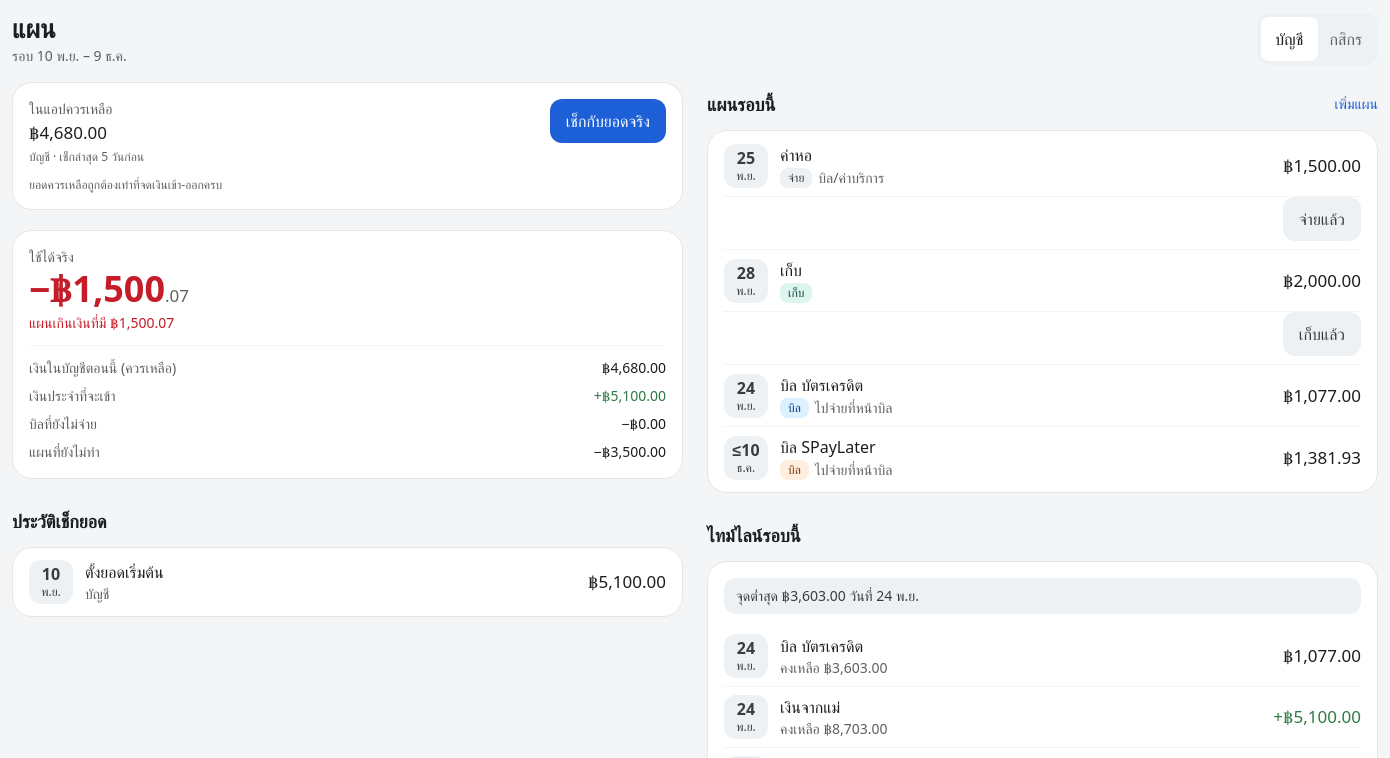
Test case: <PlanPage> › shows bank account selector when more than one active bank exists and switches active account
Click the tab "กสิกร" at (1346, 39), box [1318,17,1374,61]
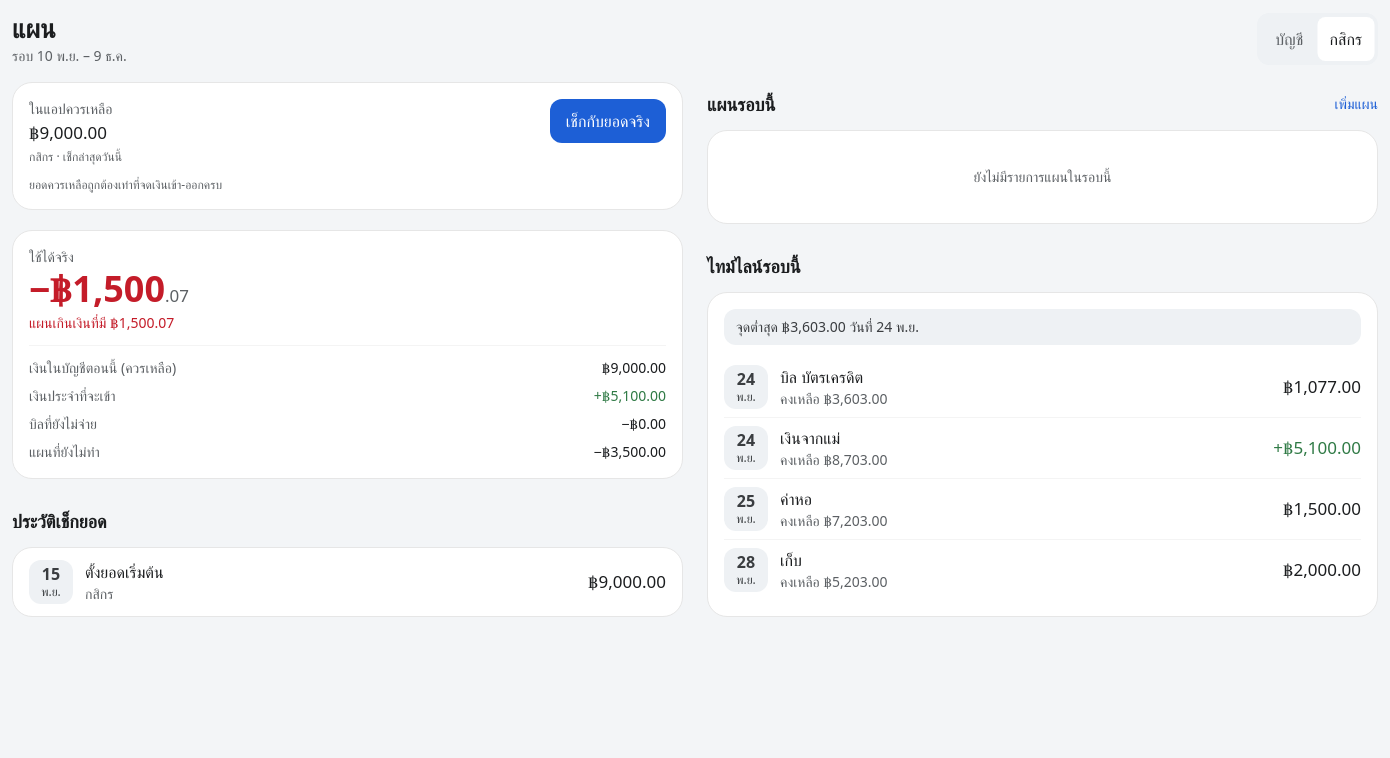
Now the element with test id "account-balance-card" shows "฿9,000.00", box [12,82,683,210]
